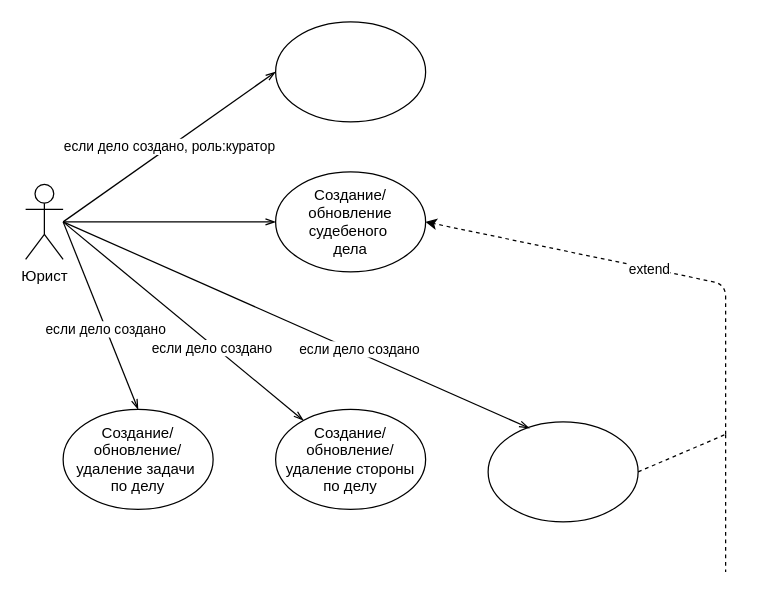
Some shapes in this 758 by 595 pixel diagram are drawn without their labels. The box of each missing label's shape, as (x1, y1, x2, y2) in pixels:
Подтверждение/отклонение задачи: (274, 21, 426, 122)
Создание/ обновление/ удаление документа по делу: (487, 421, 638, 522)
